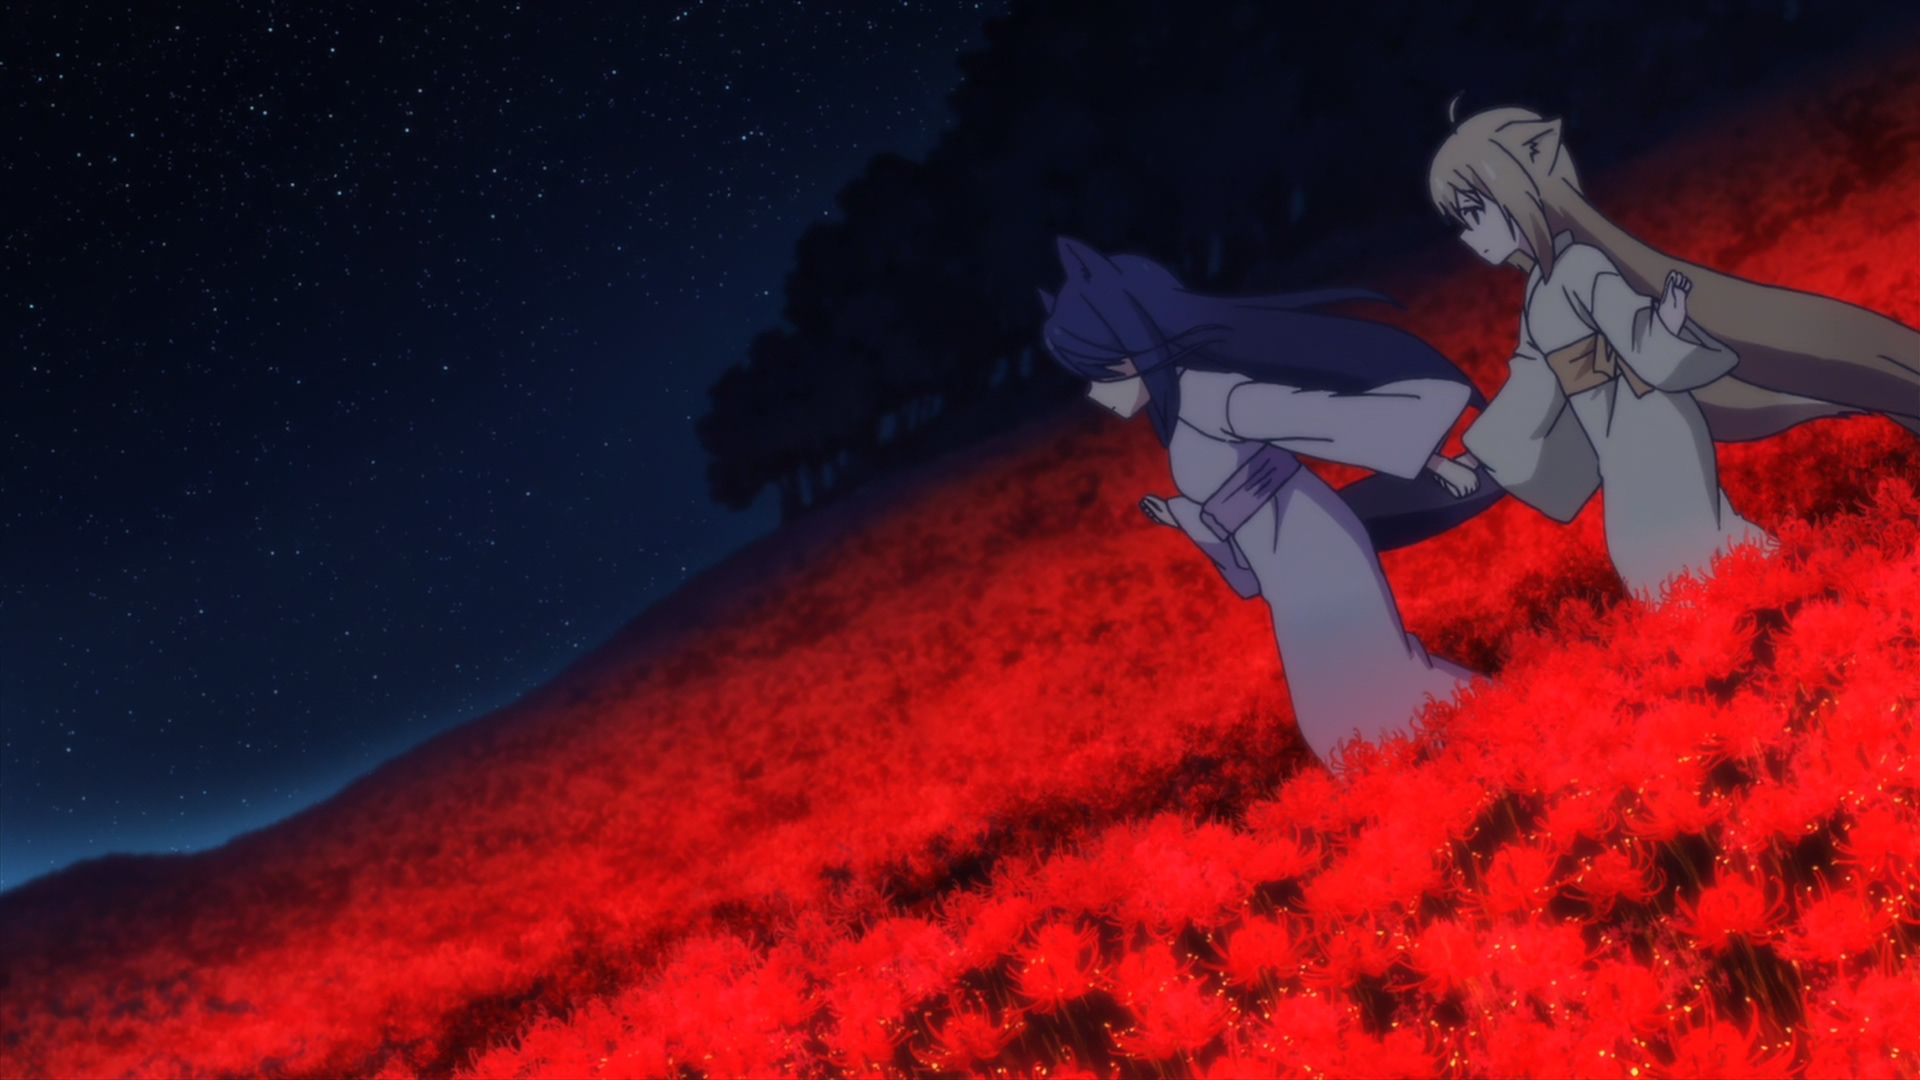柚: (1429, 92, 1920, 613)
皋: (1036, 236, 1513, 783)
